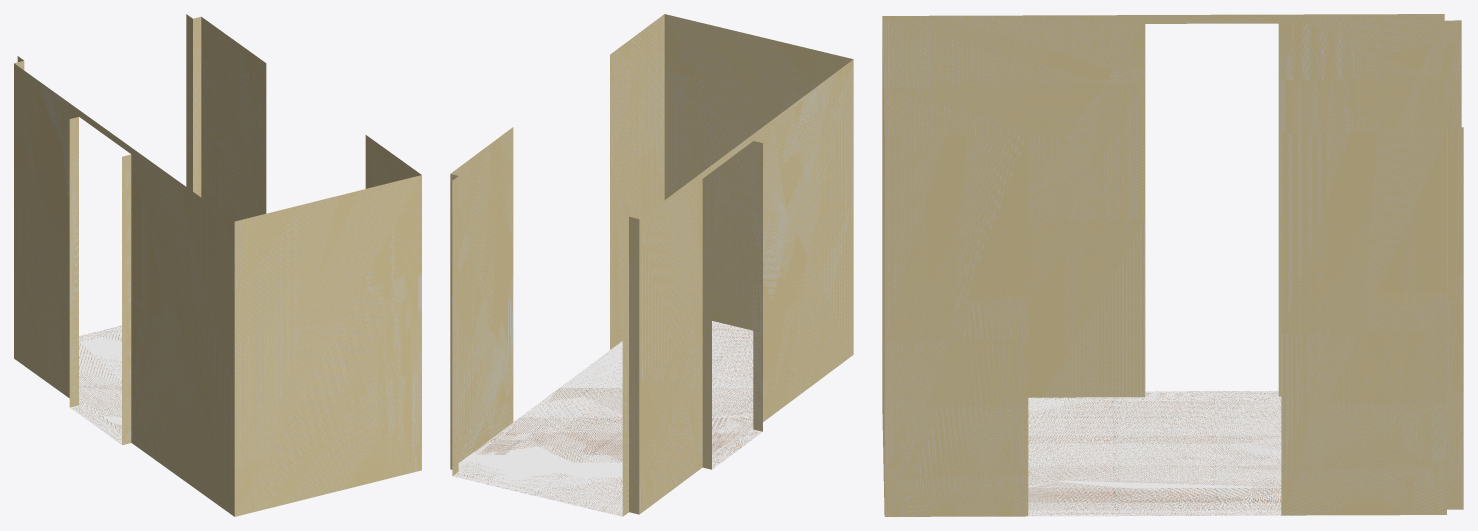
Rendered from COM036.obj.
The picture shows the model from 3 angles, left to right: view 1: azimuth 30°, elevation 25°; view 2: azimuth 150°, elevation 25°; view 3: azimuth 270°, elevation 25°; orthographic projection. The views are drawn at different scales.
Visible parts, largest first — view 1: Mesh1 COM036 Model; view 2: Mesh1 COM036 Model; view 3: Mesh1 COM036 Model.
Boxes of the visible parts, x1,y1,x2,y2 form: Mesh1 COM036 Model: (14,14,421,516); Mesh1 COM036 Model: (450,14,853,516); Mesh1 COM036 Model: (882,14,1463,516).
Size of the model in its own units: 2.12 by 3 by 4.14.
Materials: 3 (1 with a texture image).
